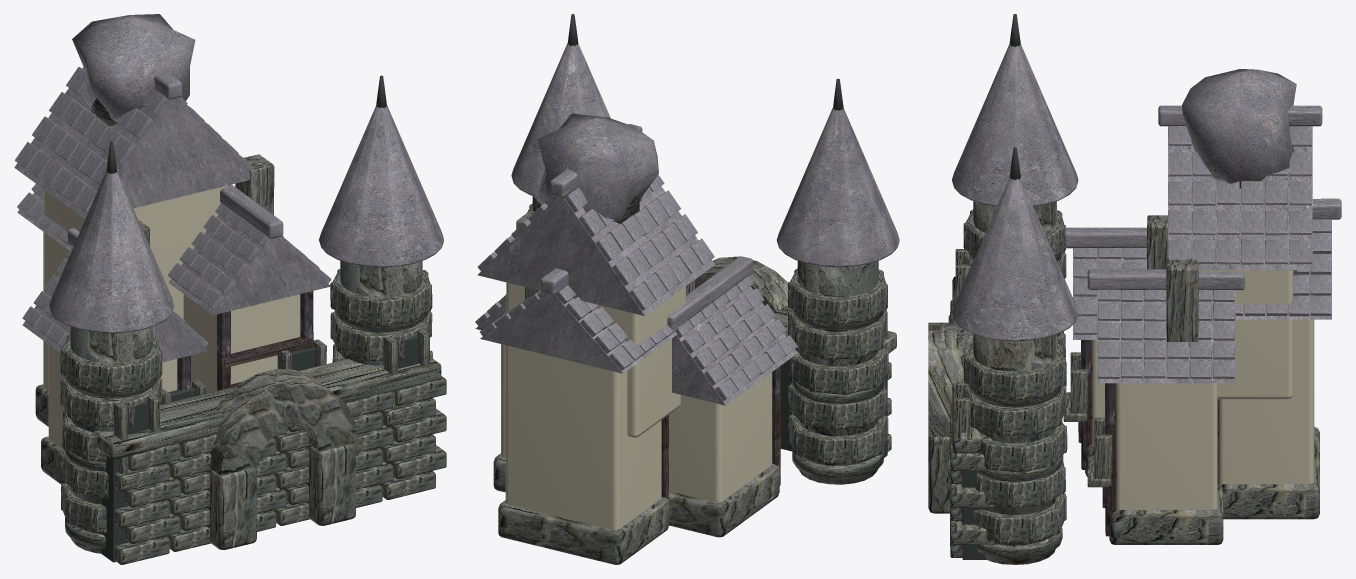
Rendered from env-site-city2.glb.
3 renders of one model, left to right at view 1: azimuth 30°, elevation 25°; view 2: azimuth 150°, elevation 25°; view 3: azimuth 270°, elevation 25°, orthographic. The views are drawn at different scales.
Visible parts, largest first — view 1: site city2 · authored textured miniature; view 2: site city2 · authored textured miniature; view 3: site city2 · authored textured miniature.
Boxes of the visible parts, <box> form: site city2 · authored textured miniature: <box>14,14,446,564</box>; site city2 · authored textured miniature: <box>475,14,899,564</box>; site city2 · authored textured miniature: <box>928,14,1341,564</box>.
Bounding box in the file's own units: 1.37 × 1.44 × 1.28.
5 materials, 3 textured.
